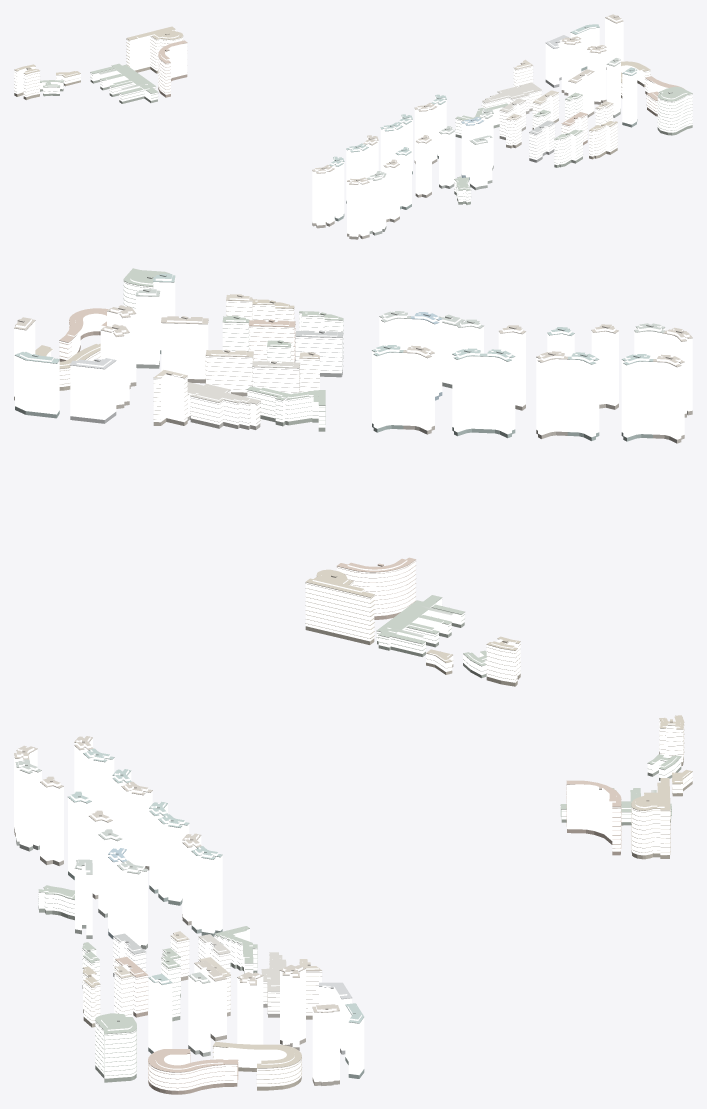
The model's file is buildings--2_2-fine.glb.
3 views of the same model, one above another, from view 1: azimuth 30°, elevation 25°; view 2: azimuth 150°, elevation 25°; view 3: azimuth 270°, elevation 25° (orthographic). The views are drawn at different scales.
Parts seen in each view (by area): view 1: block_-2_2_office, block_-2_2_residential, block_-2_2_roof, block_-2_2_darkglass, block_-2_2_concrete, block_-2_2_steel; view 2: block_-2_2_office, block_-2_2_residential, block_-2_2_roof, block_-2_2_darkglass, block_-2_2_concrete, block_-2_2_steel; view 3: block_-2_2_office, block_-2_2_residential, block_-2_2_roof, block_-2_2_darkglass, block_-2_2_concrete, block_-2_2_steel.
Part boxes in pixels (left/top/right/bottom): block_-2_2_office: left=312, top=16, right=637, bottom=236; block_-2_2_residential: left=14, top=29, right=692, bottom=202; block_-2_2_roof: left=14, top=14, right=692, bottom=199; block_-2_2_darkglass: left=14, top=66, right=692, bottom=239; block_-2_2_concrete: left=14, top=29, right=692, bottom=197; block_-2_2_steel: left=312, top=17, right=636, bottom=184; block_-2_2_office: left=14, top=275, right=692, bottom=439; block_-2_2_residential: left=46, top=278, right=520, bottom=682; block_-2_2_roof: left=14, top=268, right=692, bottom=679; block_-2_2_darkglass: left=14, top=331, right=692, bottom=686; block_-2_2_concrete: left=59, top=280, right=520, bottom=680; block_-2_2_steel: left=14, top=281, right=692, bottom=369; block_-2_2_office: left=14, top=737, right=364, bottom=1082; block_-2_2_residential: left=38, top=717, right=692, bottom=1090; block_-2_2_roof: left=14, top=715, right=692, bottom=1090; block_-2_2_darkglass: left=14, top=751, right=692, bottom=1094; block_-2_2_concrete: left=38, top=720, right=692, bottom=1088; block_-2_2_steel: left=14, top=738, right=363, bottom=1023.
Size of the model in its own units: 656 by 72.63 by 549.
